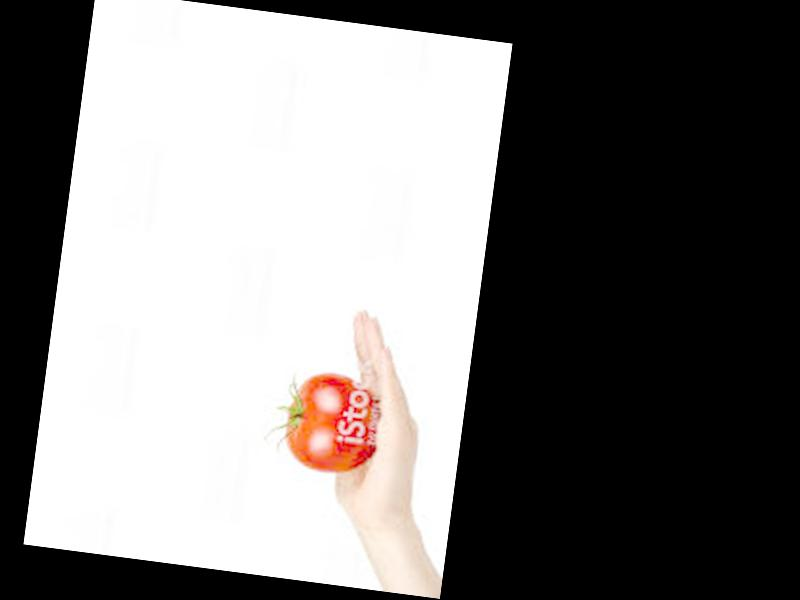Tomato: (279, 369, 383, 478)
